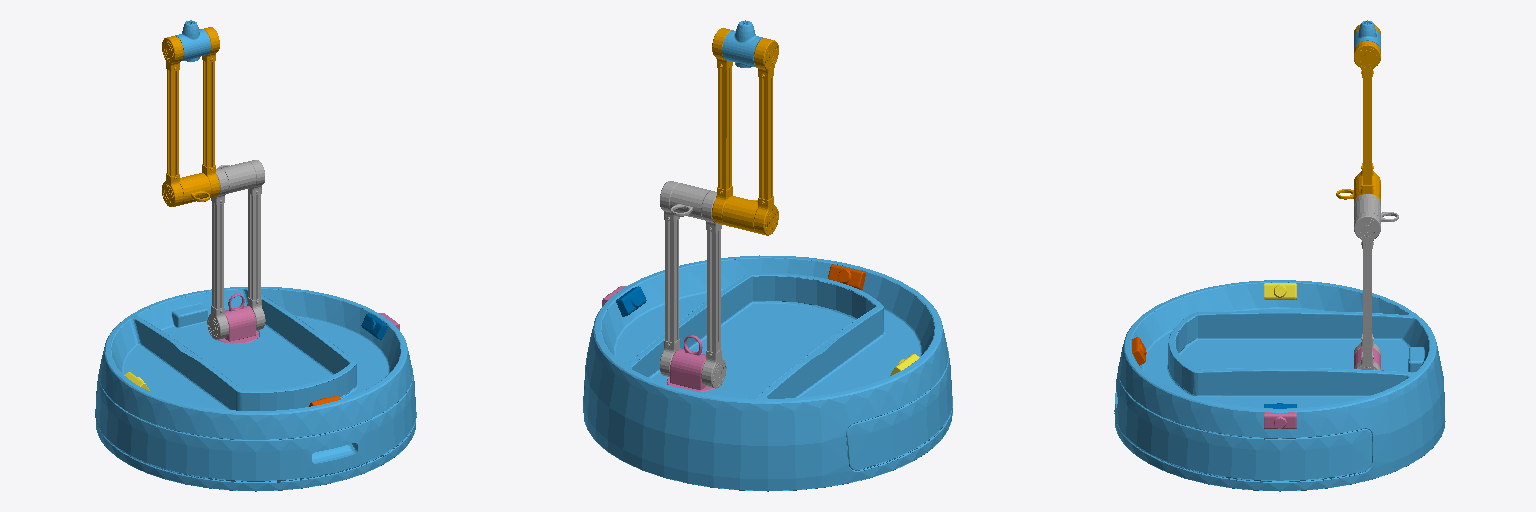
robot.urdf — vacuum_bot:
<?xml version="1.0" encoding="utf-8"?>
<!-- =================================================================================== -->
<!-- |    This document was autogenerated by xacro from vacuum_bot.urdf.xacro          | -->
<!-- |    EDITING THIS FILE BY HAND IS NOT RECOMMENDED                                 | -->
<!-- =================================================================================== -->
<robot name="vacuum_bot" xmlns:xacro="http://www.ros.org/wiki/xacro">
  <!-- include constants, configs, meshes etc -->
  <!-- math constants -->
  <!-- robot properties -->
  <!-- math constants -->
  <!-- robot properties -->
  <!-- macro for fast collision box primitive (lots of them in the model) -->
  <!-- macro for fast collision cylinder primitive (lots of them in the model) -->
  <!-- Gazebo transmission_block macro -->
  <!-- Macro for initiallizing the ros_control plugin -->
  <!-- macro for odometry publishing -->
  <!-- Robot creation macro -->
  <link name="base_footprint"/>
  <joint name="foot_base_joint" type="fixed">
    <origin rpy="0 0 0" xyz="0 0 0.015"/>
    <parent link="base_footprint"/>
    <child link="base_link"/>
  </joint>
  <link name="base_link">
    <visual>
      <origin rpy="0 0 0" xyz="0 0 0"/>
      <geometry>
        <mesh filename="package://vacuum_bot/urdf/meshes/base_tex.dae"/>
      </geometry>
    </visual>
    <collision>
      <geometry>
        <mesh filename="package://vacuum_bot/urdf/meshes/base_collision.dae"/>
      </geometry>
      <origin xyz="0 0 0"/>
    </collision>
    <collision>
      <geometry>
        <cylinder length="0.07" radius="0.18"/>
      </geometry>
      <origin rpy="0 0 0" xyz="0 0 0.035"/>
    </collision>
    <inertial>
      <mass value="27.84"/>
      <inertia ixx="0.37267" ixy="0.535" ixz="0.27612" iyy="0.60173" iyz="0.37267" izz="0.5256"/>
    </inertial>
  </link>
  <link name="rwheel">
    <visual>
      <origin rpy="0 0 0" xyz="0 0 0"/>
      <geometry>
        <mesh filename="package://vacuum_bot/urdf/meshes/wheel_tex.dae"/>
      </geometry>
    </visual>
    <collision>
      <geometry>
        <cylinder length="0.005" radius="0.03"/>
      </geometry>
      <origin rpy="0 0 0" xyz="0 0 0"/>
    </collision>
    <inertial>
      <mass value="0.0482"/>
      <origin xyz="0 0 0"/>
      <inertia ixx="3.745e-7" ixy="6.657e-7" ixz="3.28e-7" iyy="3.28e-7" iyz="3.745e-7" izz="6.657e-7"/>
    </inertial>
  </link>
  <joint name="base_footprint_rwheel_joint" type="fixed">
    <axis rpy="0 0 0" xyz="0 0 1"/>
    <origin rpy="1.570796325 0 0" xyz="0.085 -0.09 0.03"/>
    <parent link="base_footprint"/>
    <child link="rwheel"/>
  </joint>
  <link name="lwheel">
    <visual>
      <origin rpy="0 0 0" xyz="0 0 0"/>
      <geometry>
        <mesh filename="package://vacuum_bot/urdf/meshes/wheel_tex.dae"/>
      </geometry>
    </visual>
    <collision>
      <geometry>
        <cylinder length="0.005" radius="0.03"/>
      </geometry>
      <origin rpy="0 0 0" xyz="0 0 0"/>
    </collision>
    <inertial>
      <mass value="0.0482"/>
      <origin xyz="0 0 0"/>
      <inertia ixx="3.745e-7" ixy="6.657e-7" ixz="3.28e-7" iyy="3.28e-7" iyz="3.745e-7" izz="6.657e-7"/>
    </inertial>
  </link>
  <joint name="base_footprint_lwheel_joint" type="fixed">
    <axis rpy="0 0 0" xyz="0 0 1"/>
    <origin rpy="1.570796325 0 0" xyz="0.085 0.09 0.03"/>
    <parent link="base_footprint"/>
    <child link="lwheel"/>
  </joint>
  <link name="wheelturn_link">
    <visual>
      <origin rpy="0 0 0" xyz="0 0 0"/>
      <geometry>
        <mesh filename="package://vacuum_bot/urdf/meshes/wheel_plate.dae"/>
      </geometry>
    </visual>
    <collision>
      <geometry>
        <cylinder length="0.002" radius="0.0675"/>
      </geometry>
      <origin rpy="0 0 0" xyz="0 0 0"/>
    </collision>
    <inertial>
      <mass value="0.2102"/>
      <inertia ixx="2.56e-7" ixy="4.979e-7" ixz="2.425e-7" iyy="2.425e-7" iyz="3.745e-7" izz="6.657e-7"/>
    </inertial>
  </link>
  <joint name="base_footprint_wheelturn_joint" type="continuous">
    <axis rpy="0 0 3.14159265" xyz="0 0 1"/>
    <origin xyz="-0.09 0 0.015"/>
    <parent link="base_footprint"/>
    <child link="wheelturn_link"/>
  </joint>
  <link name="freewheel">
    <visual>
      <origin rpy="0 0 0" xyz="0 0 0"/>
      <geometry>
        <mesh filename="package://vacuum_bot/urdf/meshes/wheel_tex.dae"/>
      </geometry>
    </visual>
    <collision>
      <geometry>
        <cylinder length="0.005" radius="0.03"/>
      </geometry>
      <origin rpy="0 0 0" xyz="0 0 0"/>
    </collision>
    <inertial>
      <mass value="0.0482"/>
      <origin xyz="0 0 0"/>
      <inertia ixx="3.745e-7" ixy="6.657e-7" ixz="3.28e-7" iyy="3.28e-7" iyz="3.745e-7" izz="6.657e-7"/>
    </inertial>
  </link>
  <joint name="wheelturn_link_freewheel_joint" type="fixed">
    <axis rpy="0 0 0" xyz="0 0 1"/>
    <origin rpy="1.570796325 0 0" xyz="-0.025 0 0.015"/>
    <parent link="wheelturn_link"/>
    <child link="freewheel"/>
  </joint>
  <link name="z_link">
    <visual>
      <origin rpy="0 0 1.570796325" xyz="0 0 0"/>
      <geometry>
        <mesh filename="package://vacuum_bot/urdf/meshes/z_link_tex.dae"/>
      </geometry>
    </visual>
    <collision>
      <geometry>
        <cylinder length="0.115" radius="0.01"/>
      </geometry>
      <origin rpy="0 0 0" xyz="0 0 0"/>
    </collision>
    <collision>
      <geometry>
        <cylinder length="0.085" radius="0.025"/>
      </geometry>
      <origin rpy="0 0 0" xyz="0 0 0"/>
    </collision>
    <inertial>
      <mass value="0.092245"/>
      <inertia ixx="5.697e-8" ixy="3.451e-8" ixz="5.343e-8" iyy="5.343e-8" iyz="3.451e-8" izz="3.451e-8"/>
    </inertial>
  </link>
  <joint name="base_z_joint" type="revolute">
    <axis rpy="0 0 0" xyz="0 0 1"/>
    <origin rpy="0 0 1.570796325" xyz="0.0295 0.095 0.06"/>
    <parent link="base_link"/>
    <child link="z_link"/>
    <limit effort="1000.0" lower="-3.14159265" upper="3.14159265" velocity="0.5"/>
    <dynamics damping="0.7" friction="1.0"/>
  </joint>
  <link name="lower_arm">
    <visual>
      <origin rpy="0 0 0" xyz="0 0 0"/>
      <geometry>
        <mesh filename="package://vacuum_bot/urdf/meshes/lower_arm_tex.dae"/>
      </geometry>
    </visual>
    <collision>
      <geometry>
        <box size="0.168 0.01 0.01"/>
      </geometry>
      <origin xyz="0.09 0 0.0235"/>
    </collision>
    <collision>
      <geometry>
        <box size="0.168 0.01 0.01"/>
      </geometry>
      <origin xyz="0.09 0 -0.0235"/>
    </collision>
    <collision>
      <geometry>
        <box size="0.005 0.02 0.02"/>
      </geometry>
      <origin xyz="0.178 -0.025 0"/>
    </collision>
    <collision>
      <geometry>
        <cylinder length="0.058" radius="0.014"/>
      </geometry>
      <origin rpy="0 0 1.570796325" xyz="0 0 0"/>
    </collision>
    <collision>
      <geometry>
        <cylinder length="0.058" radius="0.015"/>
      </geometry>
      <origin rpy="0 0 1.570796325" xyz="0.178 0 0"/>
    </collision>
    <inertial>
      <mass value="0.027199"/>
      <inertia ixx="0.01" ixy="0" ixz="0" iyy="0.01" iyz="0" izz="0.01"/>
    </inertial>
  </link>
  <joint name="z_lower_joint" type="revolute">
    <axis rpy="0 0 0" xyz="0 0 1"/>
    <origin rpy="1.570796325 -1.570796325 0" xyz="0 0 0.025"/>
    <parent link="z_link"/>
    <child link="lower_arm"/>
    <limit effort="1000.0" lower="-3.14159265" upper="3.14159265" velocity="0.5"/>
    <dynamics damping="0.7" friction="1.0"/>
  </joint>
  <link name="upper_arm">
    <visual>
      <origin rpy="0 0 0" xyz="0 0 0"/>
      <geometry>
        <mesh filename="package://vacuum_bot/urdf/meshes/upper_arm_tex.dae"/>
      </geometry>
    </visual>
    <collision>
      <geometry>
        <box size="0.174 0.01 0.01"/>
      </geometry>
      <origin xyz="0.0775 0 0.0235"/>
    </collision>
    <collision>
      <geometry>
        <box size="0.174 0.01 0.01"/>
      </geometry>
      <origin xyz="0.0775 0 -0.0235"/>
    </collision>
    <collision>
      <geometry>
        <box size="0.005 0.02 0.02"/>
      </geometry>
      <origin xyz="0 0.025 0"/>
    </collision>
    <collision>
      <geometry>
        <cylinder length="0.058" radius="0.015"/>
      </geometry>
      <origin rpy="0 0 1.570796325" xyz="0 0 0"/>
    </collision>
    <collision>
      <geometry>
        <cylinder length="0.011" radius="0.015"/>
      </geometry>
      <origin rpy="0 0 1.570796325" xyz="0.178 0 0.0235"/>
    </collision>
    <collision>
      <geometry>
        <cylinder length="0.011" radius="0.015"/>
      </geometry>
      <origin rpy="0 0 1.570796325" xyz="0.178 0 -0.0235"/>
    </collision>
    <inertial>
      <mass value="0.05571"/>
      <inertia ixx="0.01" ixy="0" ixz="2.975e-8" iyy="0.01" iyz="0" izz="0.01"/>
    </inertial>
  </link>
  <joint name="lower_upper_joint" type="revolute">
    <axis rpy="0 0 0" xyz="0 0 1"/>
    <origin rpy="0 0 0" xyz="0.178 0 -0.059"/>
    <parent link="lower_arm"/>
    <child link="upper_arm"/>
    <limit effort="1000.0" lower="-3.14159265" upper="3.14159265" velocity="0.5"/>
    <dynamics damping="0.7" friction="1.0"/>
  </joint>
  <link name="end_effector">
    <visual>
      <origin rpy="0 0 0" xyz="0 0 0"/>
      <geometry>
        <mesh filename="package://vacuum_bot/urdf/meshes/end_effector_tex.dae"/>
      </geometry>
    </visual>
    <collision>
      <geometry>
        <cylinder length="0.0355" radius="0.015"/>
      </geometry>
      <origin rpy="0 0 0" xyz="0 0 0"/>
    </collision>
    <collision>
      <geometry>
        <cylinder length="0.043" radius="0.01"/>
      </geometry>
      <origin rpy="0 1.570796325 0" xyz="0.006 0 0"/>
    </collision>
    <inertial>
      <mass value="0.19306"/>
      <inertia ixx="0.01" ixy="2.919e-8" ixz="9.708e-8" iyy="0.01" iyz="9.034e-8" izz="0.01"/>
    </inertial>
  </link>
  <joint name="upper_end_joint" type="revolute">
    <axis rpy="0 0 0" xyz="0 0 1"/>
    <origin rpy="0 0 0" xyz="0.178 0 0"/>
    <parent link="upper_arm"/>
    <child link="end_effector"/>
    <limit effort="1000.0" lower="-3.14159265" upper="3.14159265" velocity="1"/>
    <dynamics damping="0.7" friction="1.0"/>
  </joint>
  <link name="virtual_end">
    <visual>
      <origin rpy="0 0 0" xyz="0 0 -0.028"/>
      <geometry>
        <box size="0.001 0.001 0.001"/>
      </geometry>
    </visual>
    <collision>
      <geometry>
        <box size="0.001 0.001 0.001"/>
      </geometry>
      <origin xyz="0 0 -0.028"/>
    </collision>
    <inertial>
      <mass value="0.001"/>
      <inertia ixx="0.001" ixy="0" ixz="0" iyy="0.001" iyz="0" izz="0.001"/>
    </inertial>
  </link>
  <joint name="end_virtual_joint" type="fixed">
    <axis rpy="0 0 0" xyz="0 0 1"/>
    <origin rpy="1.570796325 0 1.570796325" xyz="0.028 0.0 0"/>
    <parent link="end_effector"/>
    <child link="virtual_end"/>
    <limit effort="1000" velocity="0"/>
  </joint>
  <link name="camera_back_model">
    <visual>
      <origin rpy="0 0 0" xyz="0 0 0"/>
      <geometry>
        <mesh filename="package://vacuum_bot/urdf/meshes/camera.dae"/>
      </geometry>
    </visual>
    <collision>
      <origin rpy="0 0 0" xyz="0 0 0"/>
      <geometry>
        <mesh filename="package://vacuum_bot/urdf/meshes/camera.dae"/>
      </geometry>
    </collision>
    <inertial>
      <mass value="0.01"/>
      <inertia ixx="0.01" ixy="0" ixz="0" iyy="0.01" iyz="0" izz="0"/>
    </inertial>
  </link>
  <joint name="camera_back_model_joint" type="fixed">
    <axis rpy="0 0 0" xyz="1 0 0"/>
    <origin rpy="0 -0.5 0" xyz="-0.16 0 0.1"/>
    <child link="camera_back_model"/>
    <parent link="base_footprint"/>
  </joint>
  <link name="camera_front_model">
    <visual>
      <origin rpy="0 0 0" xyz="0 0 0"/>
      <geometry>
        <mesh filename="package://vacuum_bot/urdf/meshes/camera.dae"/>
      </geometry>
    </visual>
    <collision>
      <origin rpy="0 0 0" xyz="0 0 0"/>
      <geometry>
        <mesh filename="package://vacuum_bot/urdf/meshes/camera.dae"/>
      </geometry>
    </collision>
    <inertial>
      <mass value="0.01"/>
      <inertia ixx="0.01" ixy="0" ixz="0" iyy="0.01" iyz="0" izz="0"/>
    </inertial>
  </link>
  <joint name="camera_front_model_joint" type="fixed">
    <axis rpy="0 0 0" xyz="1 0 0"/>
    <origin rpy="0 -0.5 3.14159265" xyz="0.16 0 0.1"/>
    <child link="camera_front_model"/>
    <parent link="base_footprint"/>
  </joint>
  <link name="camera_side_model">
    <visual>
      <origin rpy="0 0 0" xyz="0 0 0"/>
      <geometry>
        <mesh filename="package://vacuum_bot/urdf/meshes/camera.dae"/>
      </geometry>
    </visual>
    <collision>
      <origin rpy="0 0 0" xyz="0 0 0"/>
      <geometry>
        <mesh filename="package://vacuum_bot/urdf/meshes/camera.dae"/>
      </geometry>
    </collision>
    <inertial>
      <mass value="0.01"/>
      <inertia ixx="0.01" ixy="0" ixz="0" iyy="0.01" iyz="0" izz="0"/>
    </inertial>
  </link>
  <joint name="camera_side_model_joint" type="fixed">
    <axis rpy="0 0 0" xyz="1 0 0"/>
    <origin rpy="0 -0.5 1.570796325" xyz="0 -0.16 0.1"/>
    <child link="camera_side_model"/>
    <parent link="base_footprint"/>
  </joint>
  <link name="camera_outwards_model">
    <visual>
      <origin rpy="0 0 0" xyz="0 0 0"/>
      <geometry>
        <mesh filename="package://vacuum_bot/urdf/meshes/camera.dae"/>
      </geometry>
    </visual>
    <collision>
      <origin rpy="0 0 0" xyz="0 0 0"/>
      <geometry>
        <mesh filename="package://vacuum_bot/urdf/meshes/camera.dae"/>
      </geometry>
    </collision>
    <inertial>
      <mass value="0.01"/>
      <inertia ixx="0.01" ixy="0" ixz="0" iyy="0.01" iyz="0" izz="0"/>
    </inertial>
  </link>
  <joint name="camera_outwards_model_joint" type="fixed">
    <axis rpy="0 0 0" xyz="1 0 0"/>
    <origin rpy="0 0 0" xyz="0.165 0 0.1"/>
    <child link="camera_outwards_model"/>
    <parent link="base_footprint"/>
  </joint>
  <!-- Cameras for scene capturing -->
  <link name="camera_end_link"/>
  <joint name="camera_end_joint" type="fixed">
    <axis rpy="0 0 0" xyz="1 0 0"/>
    <origin rpy="-1.570796325 0 -0.4" xyz="0.017 0.015 -0.0175"/>
    <parent link="end_effector"/>
    <child link="camera_end_link"/>
  </joint>
  <gazebo reference="camera_end_link">
    <sensor name="camera_end" type="camera">
      <update_rate>50</update_rate>
      <camera name="head">
        <horizontal_fov>1.3962634</horizontal_fov>
        <image>
          <width>1920</width>
          <height>1080</height>
          <format>R8G8B8</format>
        </image>
        <clip>
          <near>0.01</near>
          <far>300</far>
        </clip>
      </camera>
      <plugin filename="libgazebo_ros_camera.so" name="camera_controller">
        <alwaysOn>true</alwaysOn>
        <updateRate>0.0</updateRate>
        <cameraName>vacuum_bot/camera_end</cameraName>
        <imageTopicName>image_raw</imageTopicName>
        <cameraInfoTopicName>camera_info</cameraInfoTopicName>
        <frameName>camera_link</frameName>
        <hackBaseline>0.07</hackBaseline>
        <distortionK1>0.0</distortionK1>
        <distortionK2>0.0</distortionK2>
        <distortionK3>0.0</distortionK3>
        <distortionT1>0.0</distortionT1>
        <distortionT2>0.0</distortionT2>
      </plugin>
    </sensor>
  </gazebo>
  <link name="camera_front_link"/>
  <joint name="camera_front_joint" type="fixed">
    <axis rpy="0 0 0" xyz="1 0 0"/>
    <origin rpy="0 0.2 0" xyz="0.11 0 0.12"/>
    <parent link="base_link"/>
    <child link="camera_front_link"/>
  </joint>
  <gazebo reference="camera_front_link">
    <sensor name="camera_front" type="camera">
      <update_rate>50</update_rate>
      <camera name="head">
        <horizontal_fov>1.3962634</horizontal_fov>
        <image>
          <width>1920</width>
          <height>1080</height>
          <format>R8G8B8</format>
        </image>
        <clip>
          <near>0.01</near>
          <far>300</far>
        </clip>
      </camera>
      <plugin filename="libgazebo_ros_camera.so" name="camera_controller">
        <alwaysOn>true</alwaysOn>
        <updateRate>0.0</updateRate>
        <cameraName>vacuum_bot/camera_front</cameraName>
        <imageTopicName>image_raw</imageTopicName>
        <cameraInfoTopicName>camera_info</cameraInfoTopicName>
        <frameName>camera_link</frameName>
        <hackBaseline>0.07</hackBaseline>
        <distortionK1>0.0</distortionK1>
        <distortionK2>0.0</distortionK2>
        <distortionK3>0.0</distortionK3>
        <distortionT1>0.0</distortionT1>
        <distortionT2>0.0</distortionT2>
      </plugin>
    </sensor>
  </gazebo>
  <link name="camera_bird_link"/>
  <joint name="camera_bird_joint" type="fixed">
    <axis rpy="0 0 0" xyz="1 0 0"/>
    <origin rpy="0 0.3 2.86" xyz="0.75 -0.375 0.375"/>
    <parent link="base_link"/>
    <child link="camera_bird_link"/>
  </joint>
  <gazebo reference="camera_bird_link">
    <sensor name="camera_bird" type="camera">
      <update_rate>50</update_rate>
      <camera name="head">
        <horizontal_fov>1.3962634</horizontal_fov>
        <image>
          <width>1920</width>
          <height>1080</height>
          <format>R8G8B8</format>
        </image>
        <clip>
          <near>0.01</near>
          <far>300</far>
        </clip>
      </camera>
      <plugin filename="libgazebo_ros_camera.so" name="camera_controller">
        <alwaysOn>true</alwaysOn>
        <updateRate>0.0</updateRate>
        <cameraName>vacuum_bot/camera_bird</cameraName>
        <imageTopicName>image_raw</imageTopicName>
        <cameraInfoTopicName>camera_info</cameraInfoTopicName>
        <frameName>camera_link</frameName>
        <hackBaseline>0.07</hackBaseline>
        <distortionK1>0.0</distortionK1>
        <distortionK2>0.0</distortionK2>
        <distortionK3>0.0</distortionK3>
        <distortionT1>0.0</distortionT1>
        <distortionT2>0.0</distortionT2>
      </plugin>
    </sensor>
  </gazebo>
  <!-- Gazebo plugin publishing the ground truth odometry -->
  <gazebo>
    <plugin filename="libgazebo_ros_p3d.so" name="ground_truth">
      <frameName>map</frameName>
      <bodyName>base_footprint</bodyName>
      <topicName>vacuum_bot/odom</topicName>
      <updateRate>500</updateRate>
    </plugin>
  </gazebo>
  <!-- Transmissions and plugin for ros_control -->
  <transmission name="trans_base_z_joint">
    <type>transmission_interface/SimpleTransmission</type>
    <joint name="base_z_joint">
      <hardwareInterface>hardware_interface/PositionJointInterface</hardwareInterface>
    </joint>
    <actuator name="base_z_joint_motor">
      <hardwareInterface>hardware_interface/PositionJointInterface</hardwareInterface>
      <mechanicalReduction>1</mechanicalReduction>
    </actuator>
  </transmission>
  <transmission name="trans_z_lower_joint">
    <type>transmission_interface/SimpleTransmission</type>
    <joint name="z_lower_joint">
      <hardwareInterface>hardware_interface/PositionJointInterface</hardwareInterface>
    </joint>
    <actuator name="z_lower_joint_motor">
      <hardwareInterface>hardware_interface/PositionJointInterface</hardwareInterface>
      <mechanicalReduction>1</mechanicalReduction>
    </actuator>
  </transmission>
  <transmission name="trans_lower_upper_joint">
    <type>transmission_interface/SimpleTransmission</type>
    <joint name="lower_upper_joint">
      <hardwareInterface>hardware_interface/PositionJointInterface</hardwareInterface>
    </joint>
    <actuator name="lower_upper_joint_motor">
      <hardwareInterface>hardware_interface/PositionJointInterface</hardwareInterface>
      <mechanicalReduction>1</mechanicalReduction>
    </actuator>
  </transmission>
  <transmission name="trans_upper_end_joint">
    <type>transmission_interface/SimpleTransmission</type>
    <joint name="upper_end_joint">
      <hardwareInterface>hardware_interface/PositionJointInterface</hardwareInterface>
    </joint>
    <actuator name="upper_end_joint_motor">
      <hardwareInterface>hardware_interface/PositionJointInterface</hardwareInterface>
      <mechanicalReduction>1</mechanicalReduction>
    </actuator>
  </transmission>
  <gazebo>
    <plugin filename="libgazebo_ros_control.so" name="gazebo_ros_control">
      <robotNamespace>vacuum_bot</robotNamespace>
    </plugin>
  </gazebo>
</robot>

--- Render facts (derived) ---
3 views of the same robot in one strip: view 1: azimuth 30°, elevation 25°; view 2: azimuth 150°, elevation 25°; view 3: azimuth 270°, elevation 25° (orthographic).
Robot: vacuum_bot — 18 links, 17 joints (4 revolute, 1 continuous, 12 fixed); root link base_footprint; default pose: every joint at zero.
Links seen in each view (by area): view 1: base_link, upper_arm, lower_arm, z_link, end_effector; view 2: base_link, upper_arm, lower_arm, z_link, end_effector, camera_side_model, camera_front_model; view 3: base_link, lower_arm, upper_arm, camera_back_model, camera_outwards_model.
Boxes of the visible links, x1,y1,x2,y2 form: base_link: [95, 287, 416, 491]; upper_arm: [162, 27, 219, 206]; lower_arm: [207, 160, 265, 339]; z_link: [218, 294, 258, 343]; end_effector: [175, 20, 210, 61]; base_link: [583, 255, 952, 491]; upper_arm: [712, 28, 778, 235]; lower_arm: [660, 181, 726, 388]; z_link: [667, 335, 714, 391]; end_effector: [722, 20, 762, 67]; camera_side_model: [828, 264, 865, 289]; camera_front_model: [616, 286, 646, 316]; base_link: [1114, 280, 1445, 491]; lower_arm: [1354, 194, 1398, 369]; upper_arm: [1336, 24, 1380, 201]; camera_back_model: [1264, 283, 1296, 299]; camera_outwards_model: [1264, 412, 1296, 428].
Size in the robot's own frame: 0.3606 by 0.3602 by 0.469 metres.
Meshes: 8 distinct files referenced, 10 mesh visuals loaded (7 Collada DAE); not drawn: 3 (file found but could not be loaded).